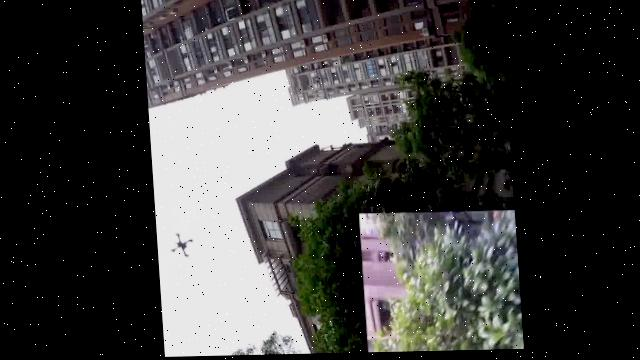drone: (156, 231, 190, 259)
